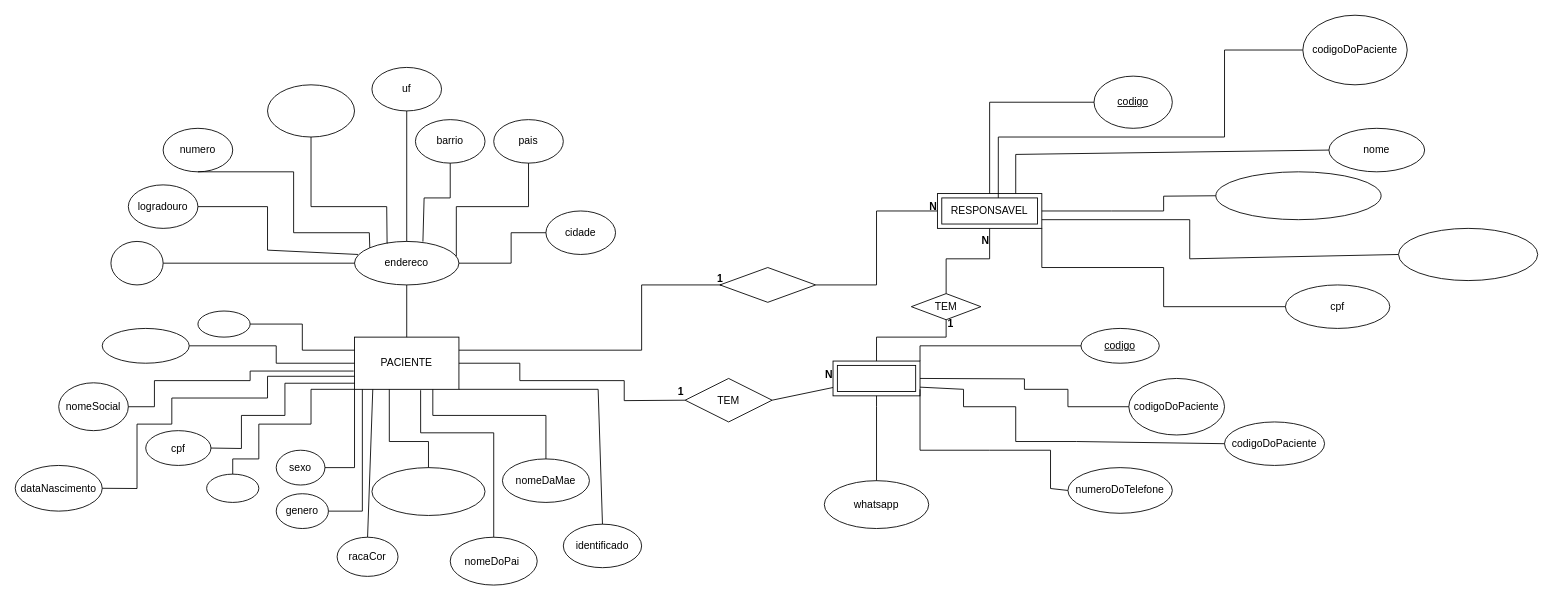
This 1553x600 diagram has some shape labels left out. Here are the shapes that lost their labels. From the top down, the box of each, then its label:
(267, 84, 355, 137): complemento
(1215, 171, 1381, 220): grauDeRelacaoDoResponsavel
(110, 241, 163, 285): cep
(1398, 228, 1538, 281): situacaoLegal
(719, 267, 816, 302): PODE
(197, 310, 250, 337): id
(101, 328, 189, 363): nomeCompleto
(832, 360, 920, 396): TELEFONE
(206, 473, 259, 502): cns
(371, 467, 485, 515): pessoaComDeficiencia
